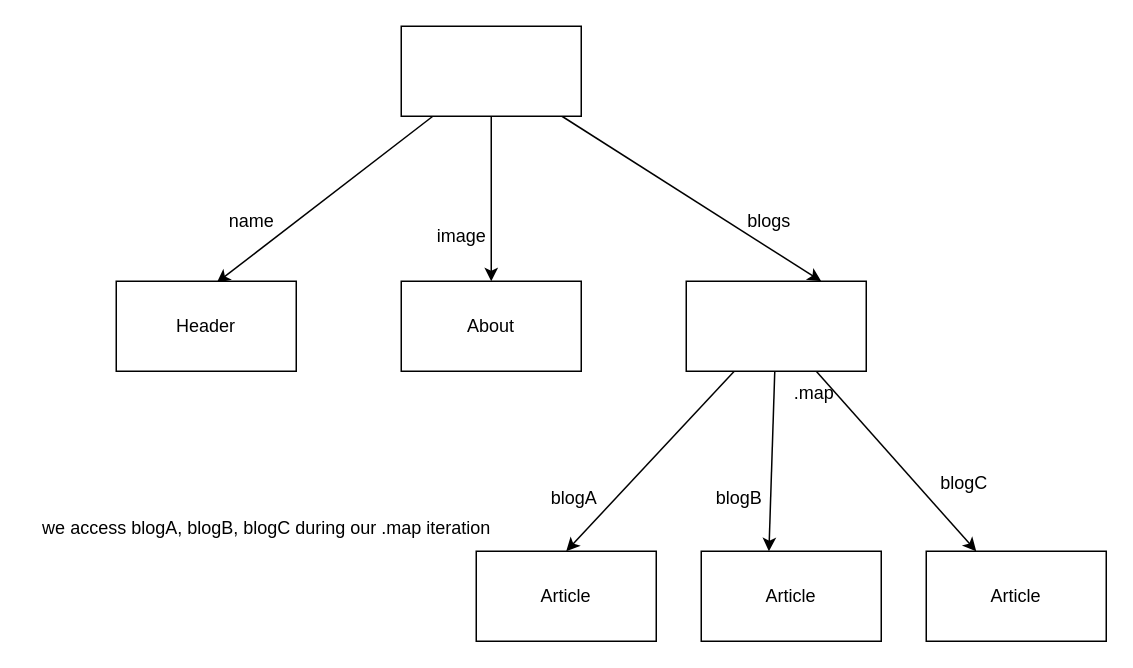
Some shapes in this 1133 by 668 pixel diagram are drawn without their labels. The shapes that lost their labels are listed below. From the top down, each one's centre as x and y in pixels, then its label:
point 490,70: App
point 775,325: ArticleList
